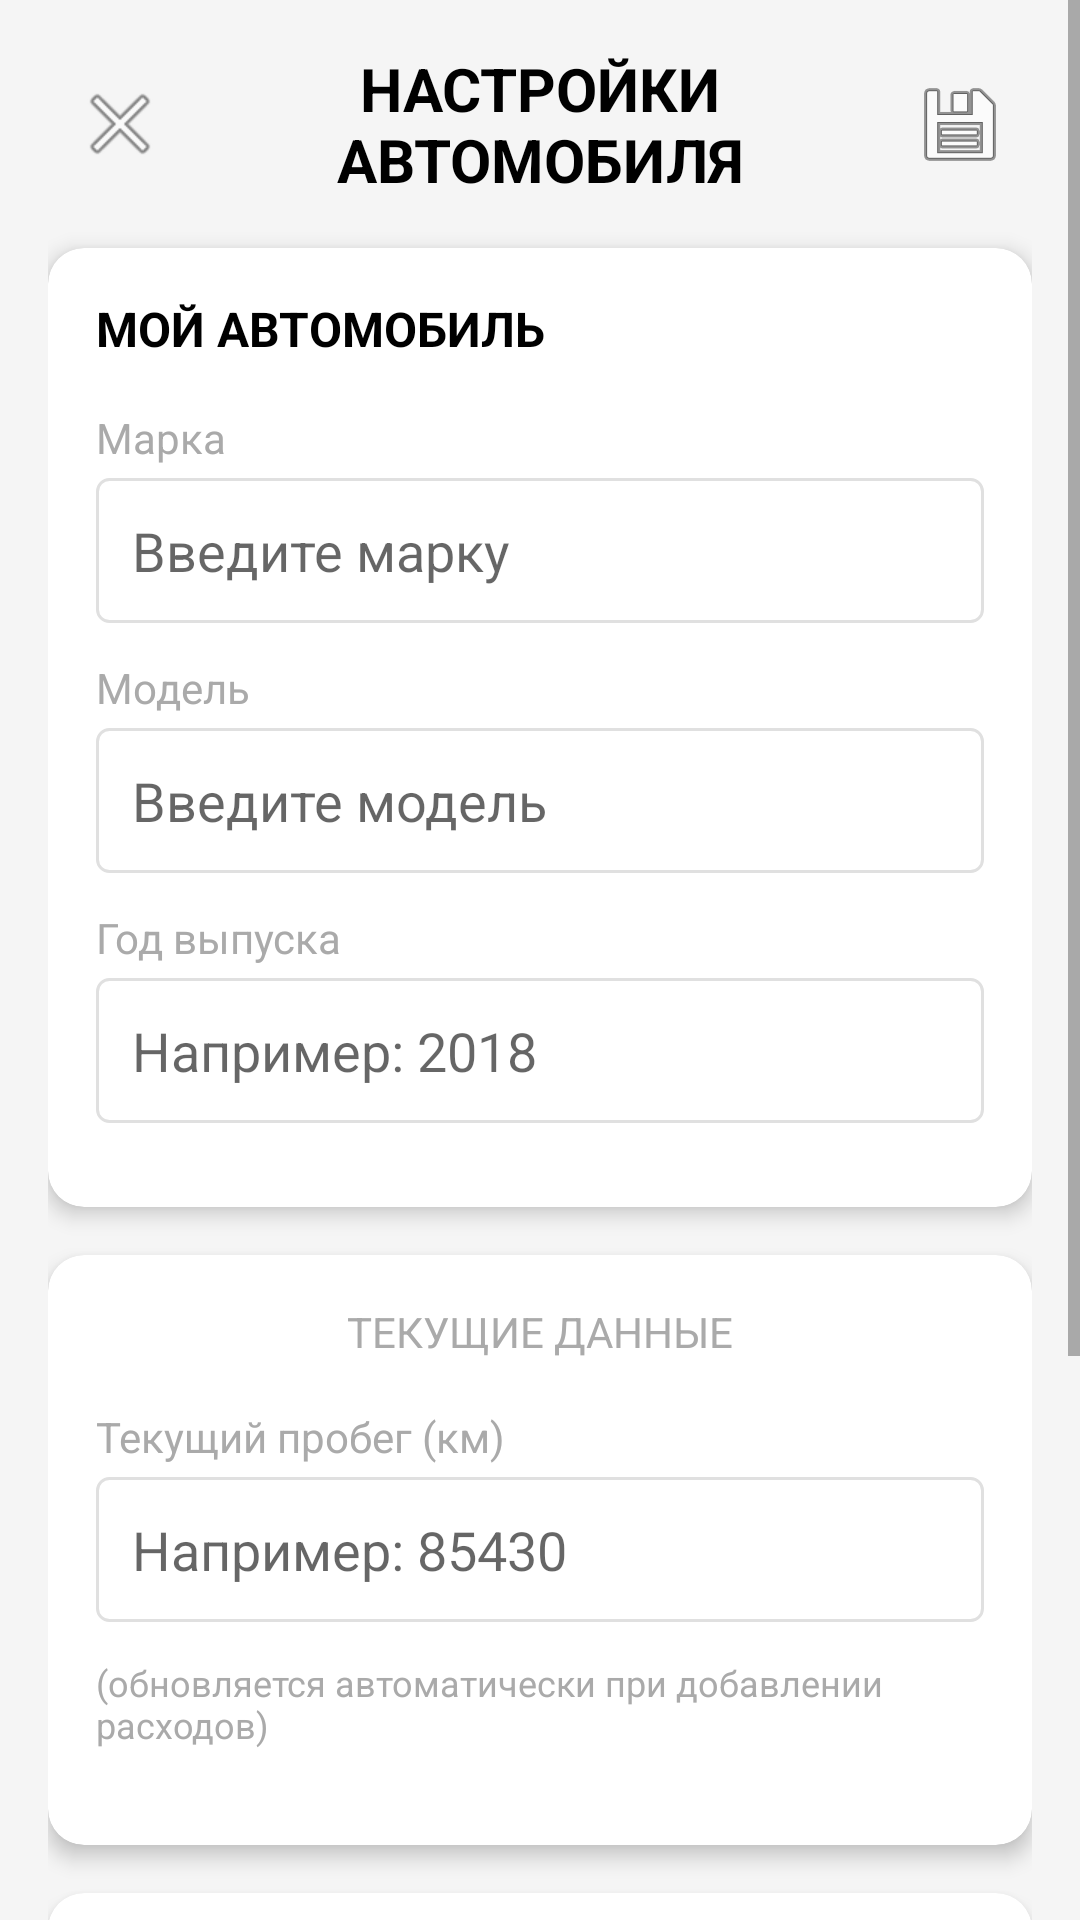

Point at icon controls on the screen. Image size 1080w x 1920h, points as (x=x, y=y).
Сохранить: (x=960, y=124)
